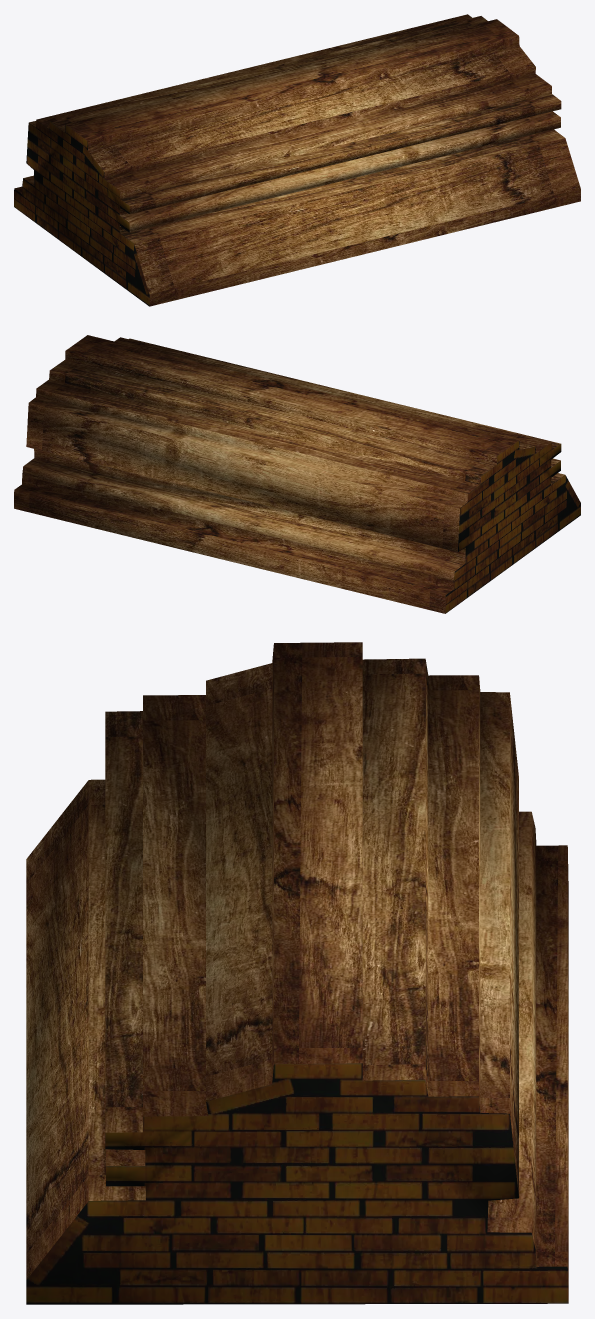
File: GS_FURNITURE_WOODPILE_01_KWIATEK.glb
3 renders of one model, top to bottom at view 1: azimuth 30°, elevation 25°; view 2: azimuth 150°, elevation 25°; view 3: azimuth 270°, elevation 25°, orthographic. The views are drawn at different scales.
Visible parts, largest first — view 1: Mesh; view 2: Mesh; view 3: Mesh.
Boxes of the visible parts, <box> form: Mesh: <box>14,14,580,306</box>; Mesh: <box>14,335,580,613</box>; Mesh: <box>26,642,568,1304</box>.
Bounding box in the file's own units: 3.46 × 0.9248 × 1.88.
2 materials, 2 textured.
